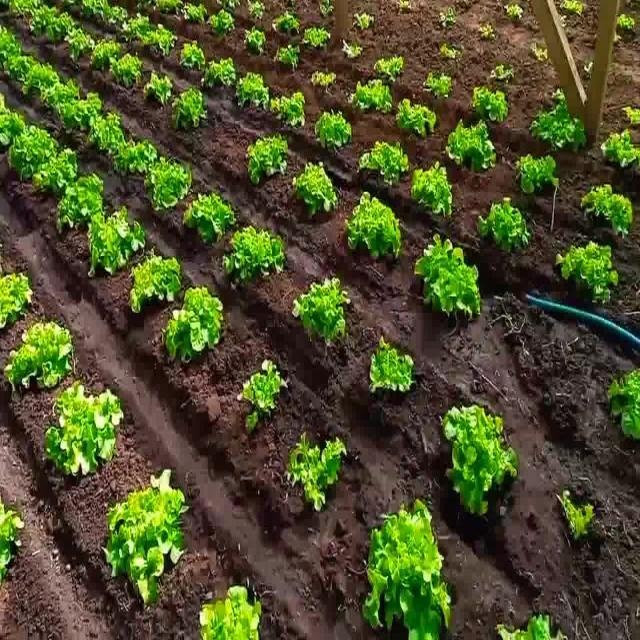Lettuce: (363, 498, 455, 640), (102, 471, 190, 604), (441, 400, 515, 516), (41, 384, 126, 476), (416, 228, 483, 319), (4, 318, 80, 394), (288, 426, 348, 511), (287, 272, 352, 350), (162, 284, 222, 364), (84, 208, 150, 274), (197, 581, 265, 640), (221, 222, 288, 280), (345, 192, 402, 258), (554, 238, 618, 296), (128, 250, 184, 314), (237, 362, 288, 432), (408, 161, 460, 218), (481, 195, 532, 253), (364, 340, 418, 394), (55, 175, 107, 231), (580, 182, 633, 236), (242, 132, 293, 188), (441, 122, 497, 172), (292, 159, 340, 217), (535, 101, 588, 153), (358, 135, 414, 184), (183, 190, 235, 242), (609, 365, 640, 445), (13, 122, 56, 178), (516, 147, 562, 197), (34, 140, 78, 192), (0, 270, 37, 330), (392, 94, 440, 140), (144, 162, 196, 204), (85, 112, 132, 156), (116, 137, 161, 178), (268, 89, 310, 132), (311, 108, 354, 148), (231, 68, 269, 111), (598, 127, 638, 167), (350, 76, 392, 114), (200, 52, 240, 91), (61, 90, 104, 125), (171, 85, 208, 125), (140, 22, 180, 59), (468, 82, 508, 117), (104, 51, 142, 86), (35, 82, 83, 108), (18, 65, 62, 92), (142, 75, 176, 106), (424, 71, 456, 103), (5, 56, 44, 80), (179, 40, 208, 72), (204, 9, 237, 37), (272, 44, 305, 71), (240, 21, 266, 51), (304, 26, 334, 50), (274, 8, 300, 34)
